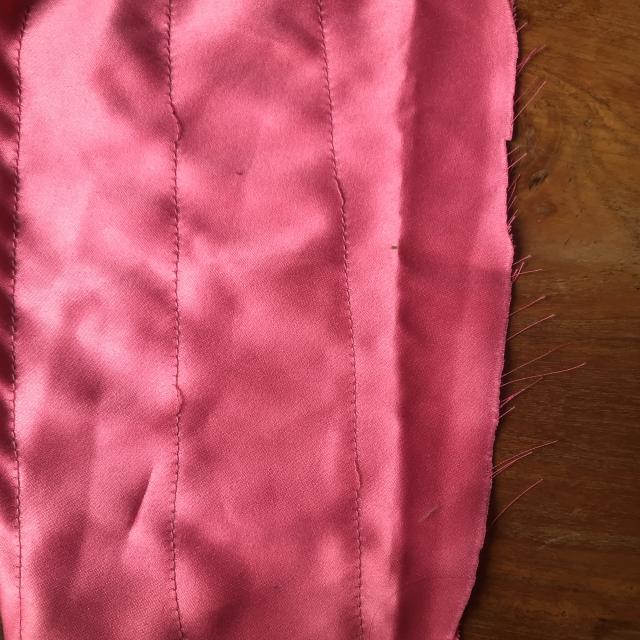skip: (159, 365, 205, 442), (148, 94, 202, 150), (320, 160, 359, 223), (342, 437, 376, 502)
